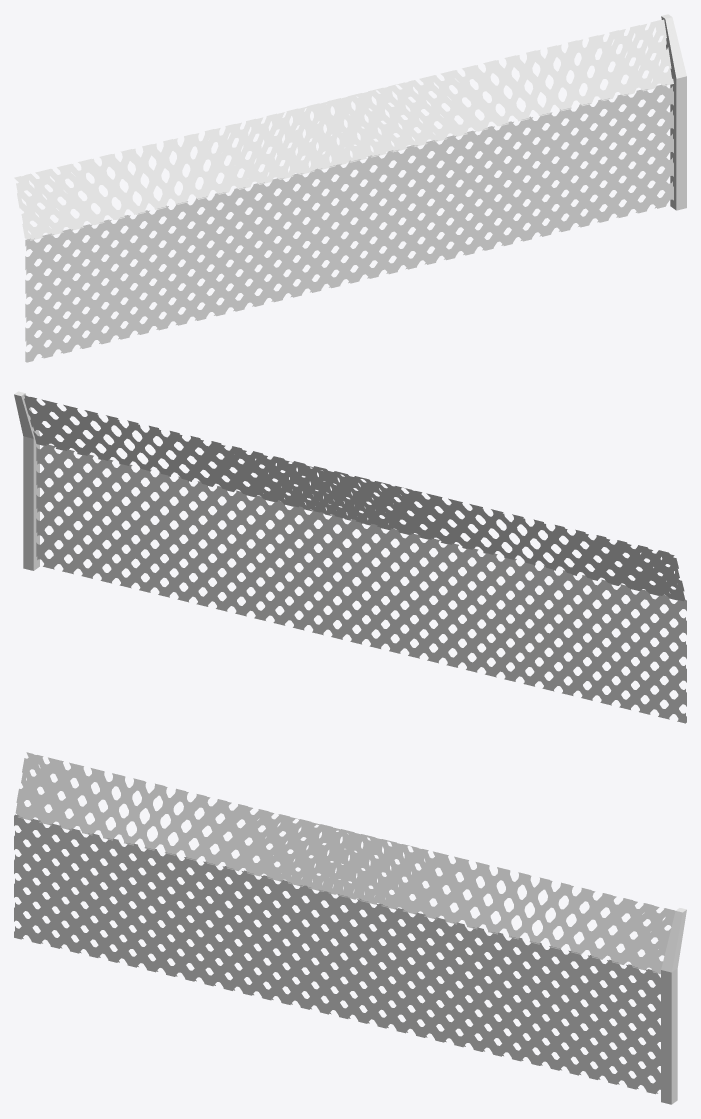
Rendered from fence.fbx.
3 renders of one model, top to bottom at view 1: azimuth 30°, elevation 25°; view 2: azimuth 150°, elevation 25°; view 3: azimuth 330°, elevation 25°, orthographic.
Parts seen in each view (by area): view 1: Fence; view 2: Fence; view 3: Fence.
Part boxes in pixels (<box>): Fence: <box>14,14,686,362</box>; Fence: <box>14,391,686,723</box>; Fence: <box>14,752,686,1104</box>.
Size of the model in its own units: 608 by 161 by 27.11.
1 material, 1 textured.
